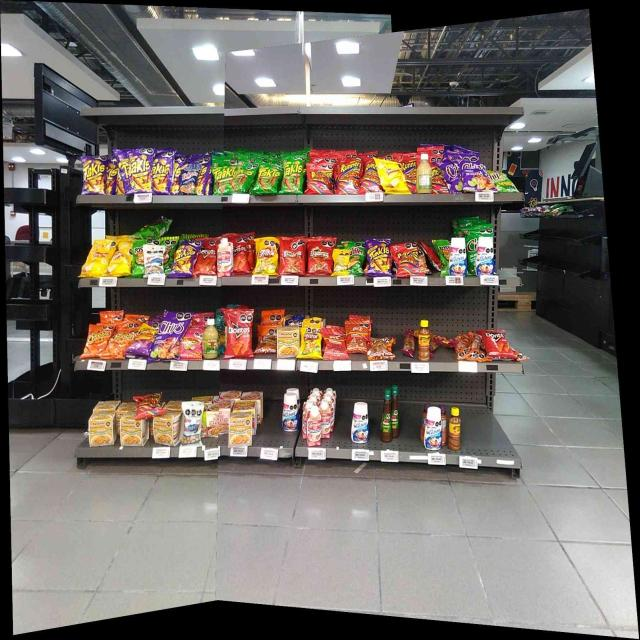bitzEnchilado90: (347, 320, 368, 352), (324, 329, 345, 359)
bitzEnchilado95: (456, 333, 482, 360)
bitzHabanero: (431, 333, 455, 349), (404, 329, 414, 358)
bokadosCacahuates: (181, 168, 196, 194)
botaneraChilito: (448, 408, 461, 450), (418, 320, 430, 361)
cheetosFlaminHot: (133, 324, 153, 357)
cheetosOriginal: (88, 325, 108, 357), (110, 330, 128, 358)
chipsFuego: (156, 311, 181, 359), (462, 154, 488, 192), (444, 160, 461, 192)
chipsPapatinas: (491, 171, 517, 192)
churrumais: (182, 329, 202, 358)
delPrimoSalsa: (204, 318, 218, 358), (418, 154, 432, 193)
doritosNacho: (225, 309, 252, 358), (485, 330, 510, 358), (198, 238, 216, 274), (234, 236, 249, 273)
fritosLimon: (257, 240, 278, 274), (301, 328, 321, 358)
leoCacahuates: (183, 402, 201, 446), (145, 246, 163, 274)
leoMix: (258, 326, 276, 353), (369, 339, 393, 359)
maruchanPollo: (90, 412, 116, 444), (120, 418, 149, 446), (154, 416, 181, 445), (230, 413, 252, 445), (278, 327, 299, 358)
nestleCarnation: (218, 238, 233, 276), (307, 408, 321, 446), (322, 401, 331, 438)
nestleLechera: (351, 402, 369, 444), (425, 407, 441, 451), (450, 237, 467, 276), (477, 237, 494, 274), (283, 392, 298, 432)
nissinRes: (208, 404, 228, 435)
rancheritos: (280, 238, 304, 274), (308, 240, 332, 274)
rufflesQueso: (350, 241, 365, 275)
runners: (307, 164, 333, 194), (338, 155, 358, 193), (397, 243, 419, 275), (362, 158, 378, 193), (138, 394, 162, 415), (406, 155, 417, 193)
sabritasOriginal: (382, 161, 406, 193), (88, 240, 109, 276), (110, 244, 131, 276)
salsaBufalo: (381, 388, 391, 442), (392, 385, 399, 438)
semillasCalabaza: (334, 249, 348, 275)
takisFuego: (129, 149, 152, 193), (82, 156, 106, 194), (175, 240, 197, 278), (368, 239, 390, 275), (154, 152, 171, 194)
takisOriginal: (283, 156, 303, 194), (256, 165, 280, 193), (213, 156, 230, 192), (233, 163, 250, 193)
tostitos: (135, 218, 167, 238), (132, 240, 144, 277), (438, 240, 450, 275)
